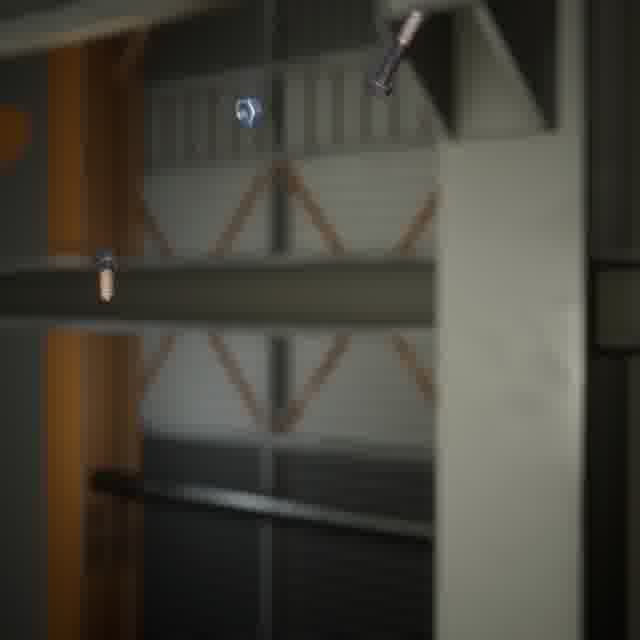bolt: (360, 2, 429, 102), (88, 243, 123, 306)
nut: (229, 93, 267, 130)
